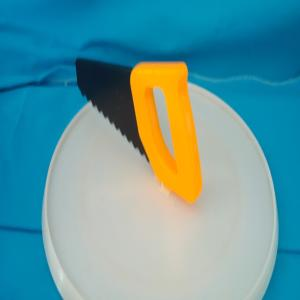serrote: (75, 57, 203, 204)
